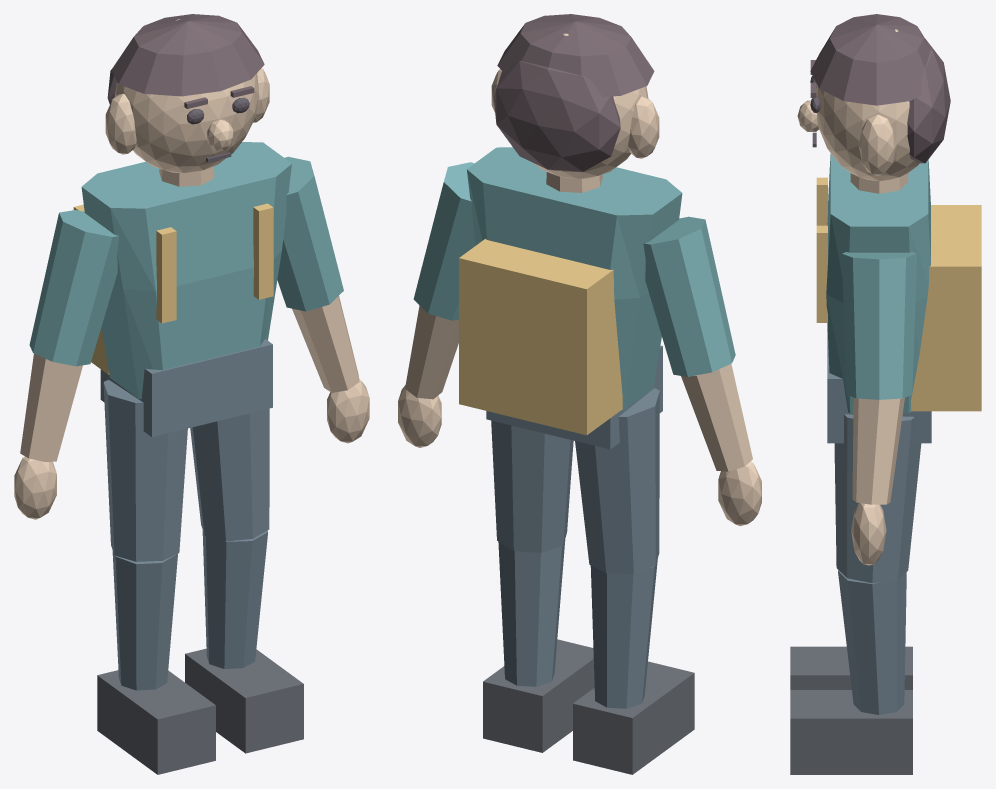
Rendered from character_blockout.glb.
The picture shows the model from 3 angles, left to right: view 1: azimuth 30°, elevation 25°; view 2: azimuth 150°, elevation 25°; view 3: azimuth 270°, elevation 25°; orthographic projection. The views are drawn at different scales.
Visible parts, largest first — view 1: BODY_Torso, LEG_R_Thigh, ARM_R_Upper, HEAD_HairCap, LEG_R_Shoe, LEG_L_Thigh, BODY_Pelvis, LEG_L_Shoe, HEAD_Cranium, LEG_R_Calf, LEG_L_Calf, ARM_L_Upper (+9 smaller); view 2: GEAR_Backpack, BODY_Torso, LEG_R_Thigh, HEAD_RearHairVolume, ARM_R_Upper, LEG_L_Thigh, LEG_R_Shoe, HEAD_HairCap, LEG_R_Calf, LEG_L_Calf, LEG_L_Shoe, ARM_L_Upper (+8 smaller); view 3: GEAR_Backpack, BODY_Torso, ARM_L_Upper, LEG_L_Shoe, HEAD_HairCap, LEG_L_Calf, LEG_L_Thigh, ARM_L_Forearm, HEAD_Cranium, HEAD_RearHairVolume, LEG_R_Shoe, BODY_Pelvis (+6 smaller).
Boxes of the visible parts, x1,y1,x2,y2 form: BODY_Torso: (81, 142, 291, 399); LEG_R_Thigh: (103, 379, 187, 561); ARM_R_Upper: (29, 210, 119, 366); HEAD_HairCap: (111, 14, 264, 96); LEG_R_Shoe: (97, 670, 215, 774); LEG_L_Thigh: (190, 408, 269, 541); BODY_Pelvis: (100, 339, 272, 436); LEG_L_Shoe: (185, 648, 303, 753); HEAD_Cranium: (115, 19, 259, 172); LEG_R_Calf: (112, 551, 177, 690); LEG_L_Calf: (202, 530, 267, 668); ARM_L_Upper: (277, 156, 343, 311); GEAR_Backpack: (459, 239, 622, 435); BODY_Torso: (466, 147, 682, 410); LEG_R_Thigh: (575, 388, 659, 573); HEAD_RearHairVolume: (493, 60, 620, 171); ARM_R_Upper: (643, 216, 735, 376); LEG_L_Thigh: (491, 420, 573, 552); LEG_R_Shoe: (573, 661, 694, 774); HEAD_HairCap: (497, 14, 654, 98); LEG_R_Calf: (590, 558, 657, 708); LEG_L_Calf: (498, 539, 565, 686); LEG_L_Shoe: (483, 639, 594, 752); ARM_L_Upper: (413, 162, 475, 320); GEAR_Backpack: (911, 205, 981, 411); BODY_Torso: (826, 153, 930, 413); ARM_L_Upper: (842, 252, 916, 399); LEG_L_Shoe: (790, 690, 912, 774); HEAD_HairCap: (810, 14, 934, 105); LEG_L_Calf: (838, 570, 906, 714); LEG_L_Thigh: (834, 414, 921, 583); ARM_L_Forearm: (852, 397, 904, 504); HEAD_Cranium: (816, 29, 919, 181); HEAD_RearHairVolume: (907, 38, 950, 163); LEG_R_Shoe: (790, 646, 912, 689); BODY_Pelvis: (827, 324, 931, 443).
Bounding box in the file's own units: 0.8944 × 1.7 × 0.4133.
